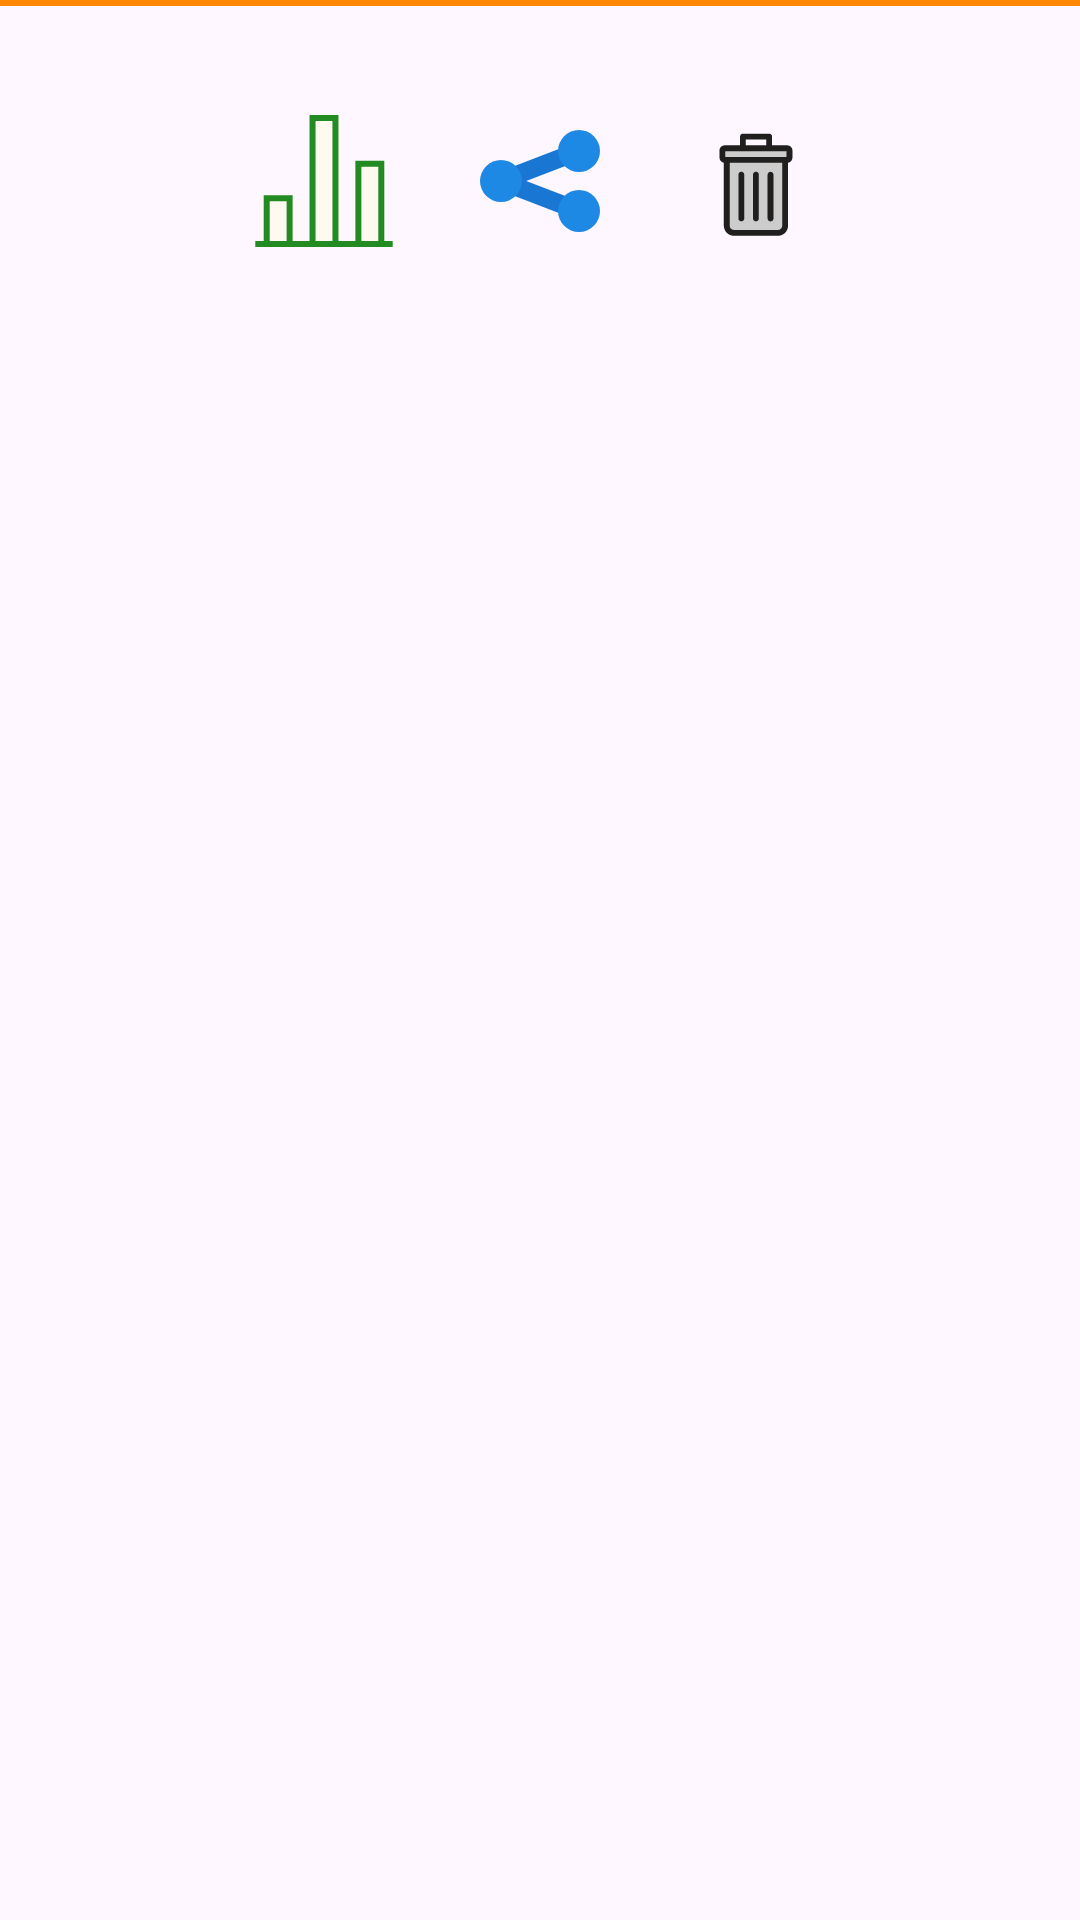

Icons on this 1080×1920 Android screen, each with the point to tap as [x,y]:
Delete: [756,184]
Result: [324,181]
Share: [540,181]
